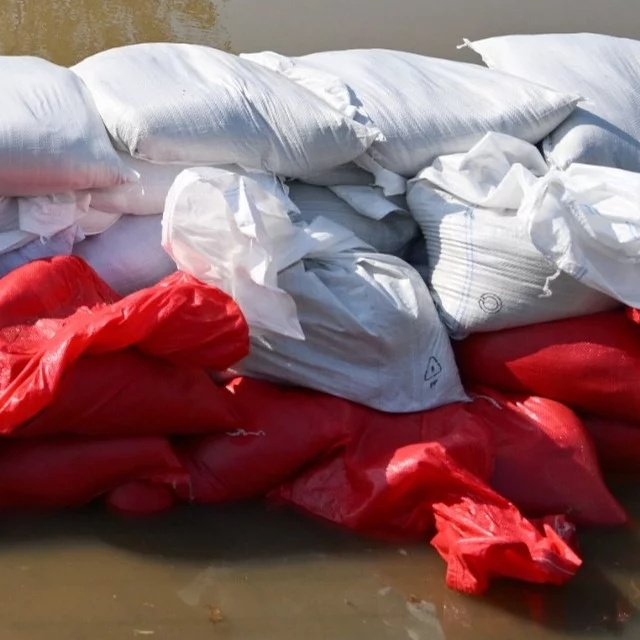sandbag: (162, 171, 467, 411), (273, 408, 580, 595), (408, 133, 640, 338), (240, 50, 577, 178), (0, 274, 249, 439), (73, 44, 375, 179), (466, 34, 640, 170), (175, 380, 357, 503), (471, 386, 627, 526), (454, 311, 640, 424), (0, 56, 130, 196), (0, 440, 190, 510), (0, 258, 119, 329), (76, 220, 175, 292)
